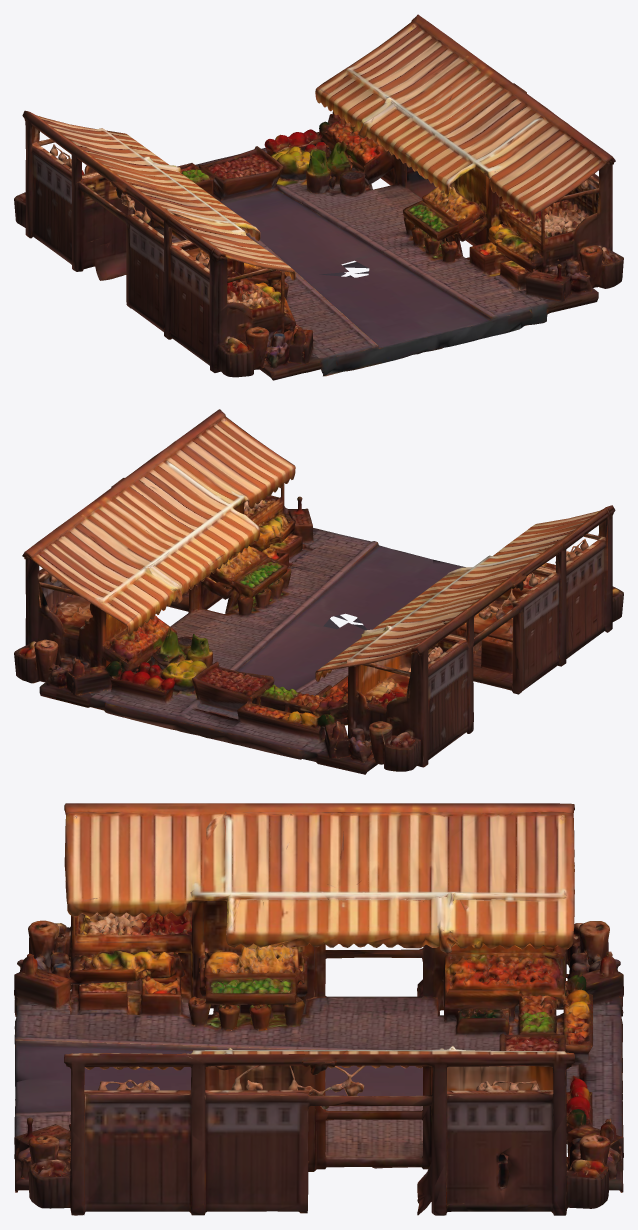
The model's file is vienna-market.glb.
3 views of the same model, one above another, from view 1: azimuth 30°, elevation 25°; view 2: azimuth 150°, elevation 25°; view 3: azimuth 270°, elevation 25° (orthographic). The views are drawn at different scales.
Visible parts, largest first — view 1: Mesh1.0; view 2: Mesh1.0; view 3: Mesh1.0.
Part boxes in pixels (x1,y1,x2,y2): Mesh1.0: [14, 14, 623, 380]; Mesh1.0: [14, 409, 623, 774]; Mesh1.0: [14, 803, 623, 1215].
Size of the model in its own units: 20.91 by 6.54 by 20.9.
Materials: 1 (1 with a texture image).
